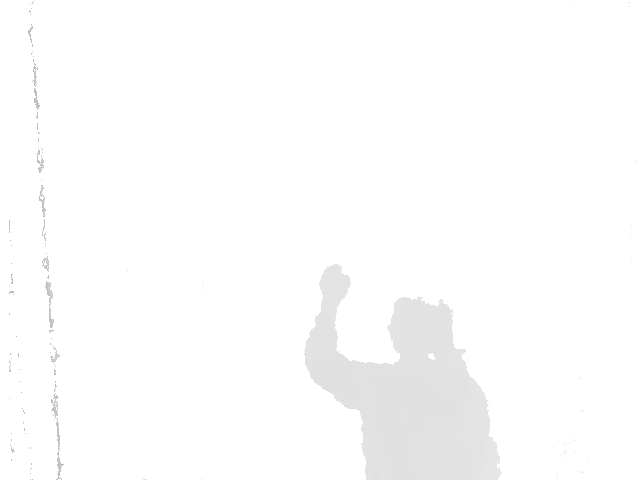hand: (320, 263, 351, 316)
head: (387, 295, 465, 364)
person: (306, 263, 499, 480)
